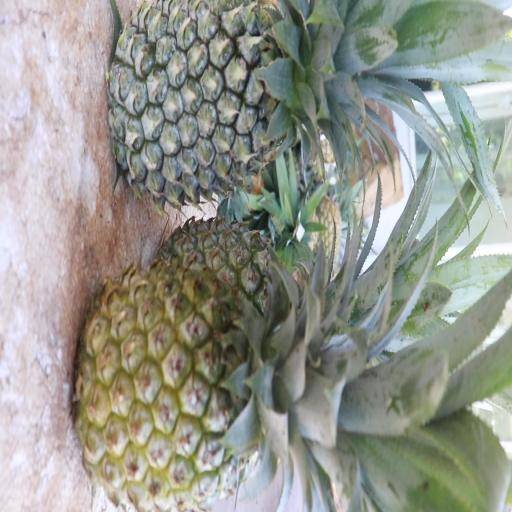------------------------------: (72, 253, 404, 512)
